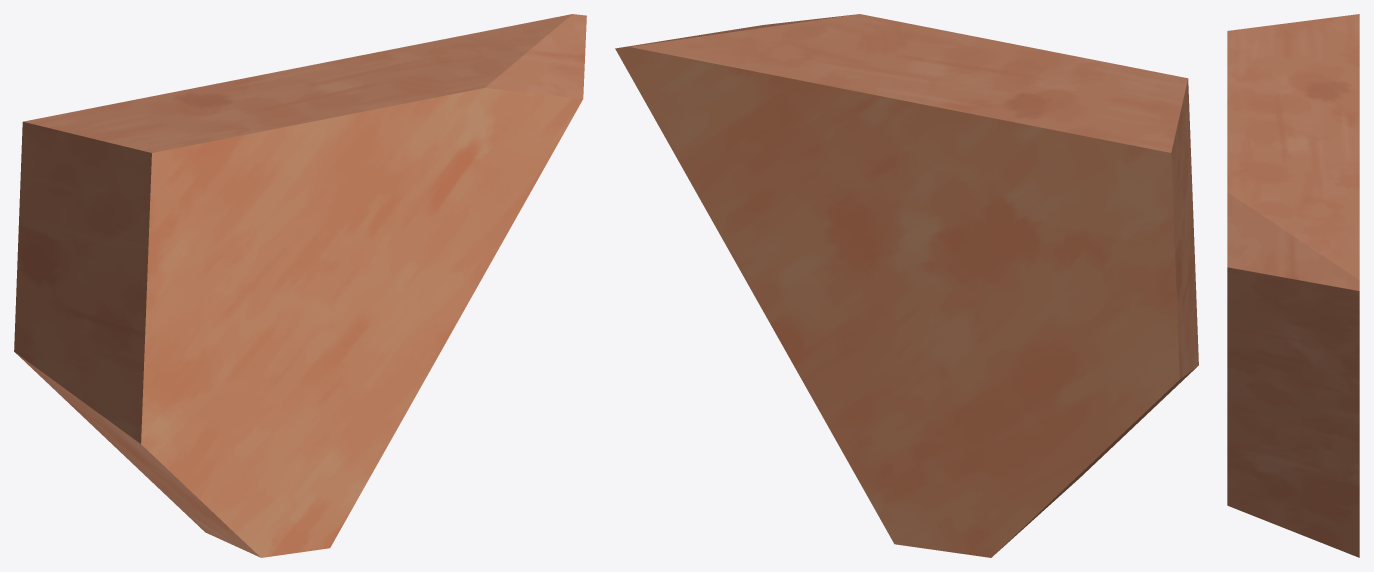
Rendered from wall2_upper_s11.fbx.
3 views of the same model, side by side, from view 1: azimuth 30°, elevation 25°; view 2: azimuth 150°, elevation 25°; view 3: azimuth 270°, elevation 25° (orthographic). The views are drawn at different scales.
Parts seen in each view (by area): view 1: wall2_upper_s11; view 2: wall2_upper_s11; view 3: wall2_upper_s11.
Part boxes in pixels (box(x1,y1,x2,y2)): wall2_upper_s11: box(14, 14, 586, 557); wall2_upper_s11: box(615, 14, 1198, 557); wall2_upper_s11: box(1227, 14, 1359, 557).
Bounding box in the file's own units: 4.51 × 3.57 × 1.
